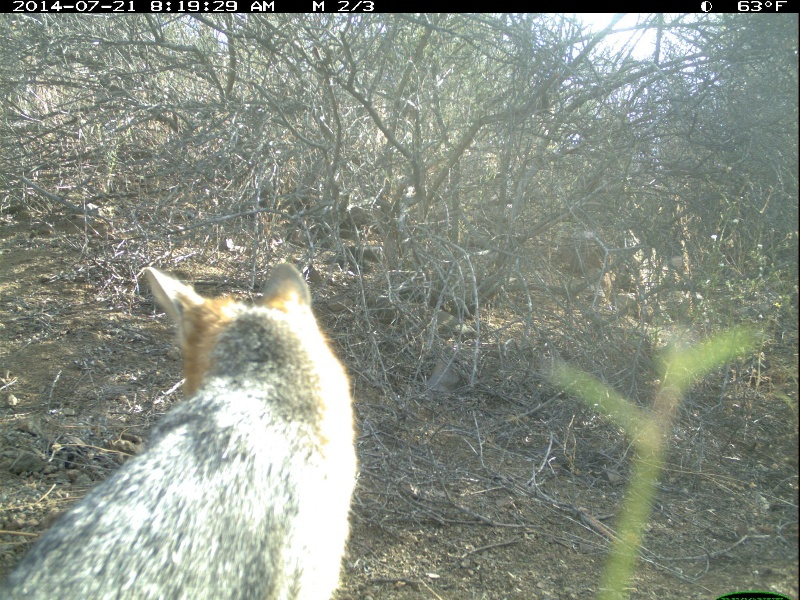coyote: (1, 256, 362, 598)
